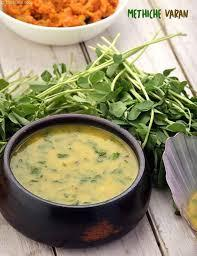varan: (12, 125, 143, 195)
